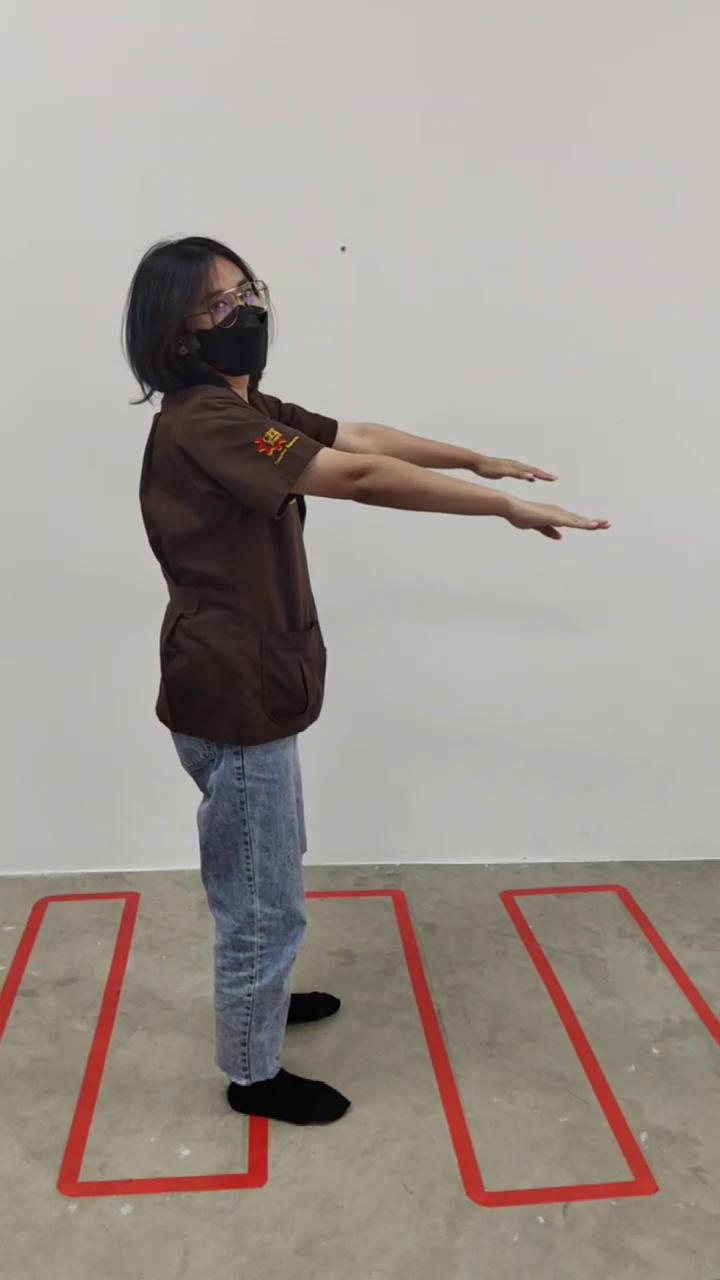squat up: (125, 238, 608, 1125)
